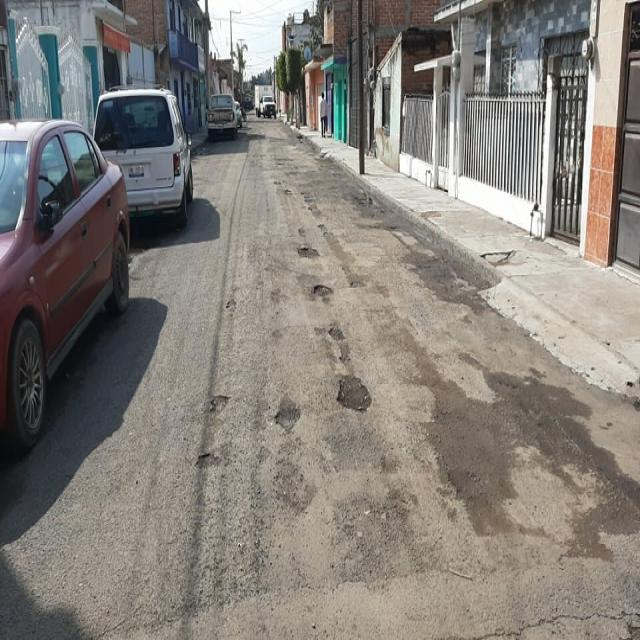Pothole: (271, 170, 397, 508), (192, 288, 246, 503)
